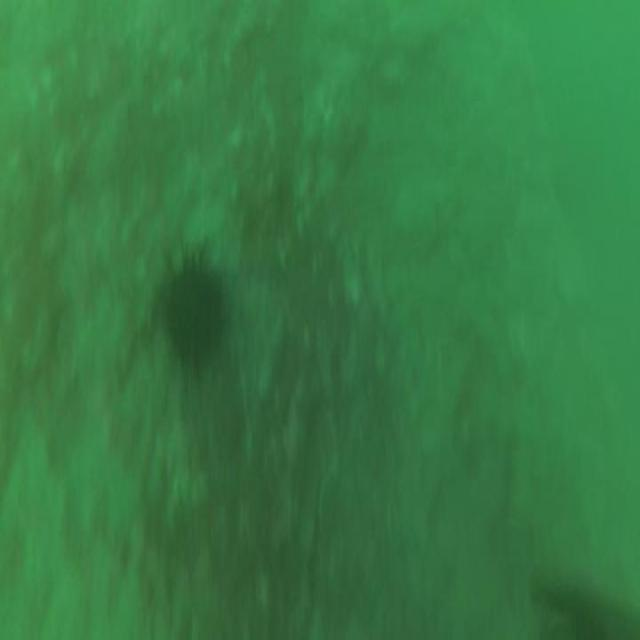echinus: (168, 262, 224, 359)
